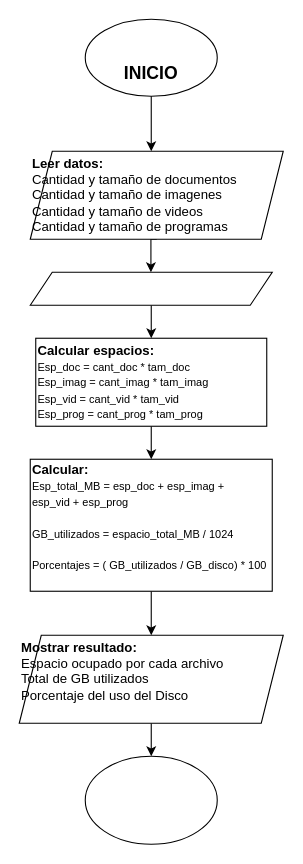
This 303x864 diagram has some shape labels left out. The shapes that lost their labels are listed below. From the top down, each one's box as (x1, y1, x2, y2) in pixels, then its label:
(29, 271, 272, 305): Leer: Capacitacion total del disco en GB
(84, 755, 217, 844): Fin
